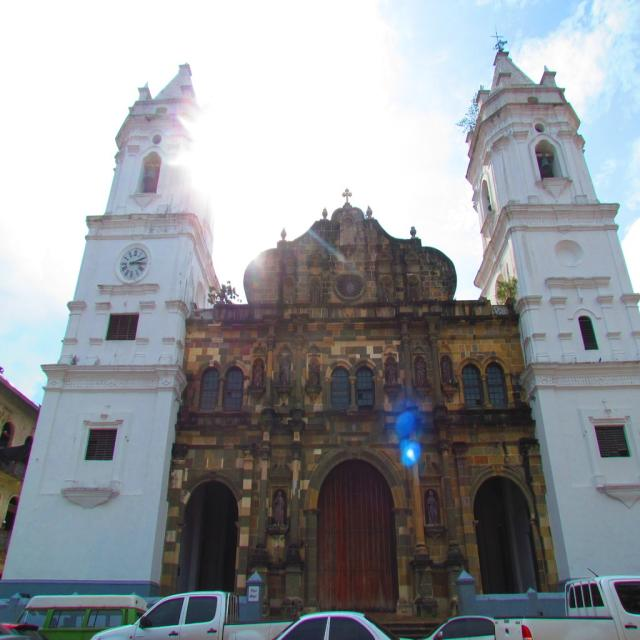car: (270, 610, 407, 638)
